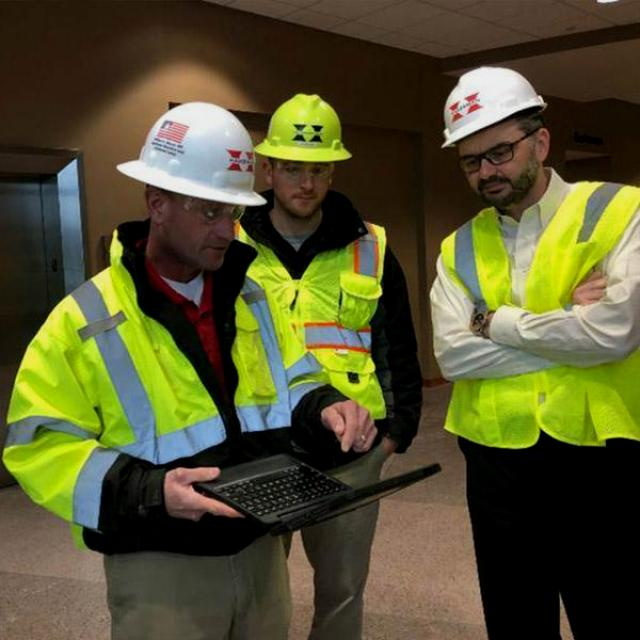face_nomask: (160, 188, 244, 282), (456, 125, 554, 199), (271, 155, 328, 228)
glasses: (453, 140, 521, 183), (181, 187, 250, 227), (272, 158, 338, 188)
hand_noglove: (159, 463, 250, 532), (319, 389, 404, 462)
head_helmet: (120, 100, 275, 210), (432, 64, 556, 133), (257, 89, 363, 160)
person: (48, 111, 306, 637), (419, 64, 640, 627), (244, 85, 423, 634)
vest: (73, 261, 323, 541), (434, 177, 640, 426), (224, 210, 389, 400)
